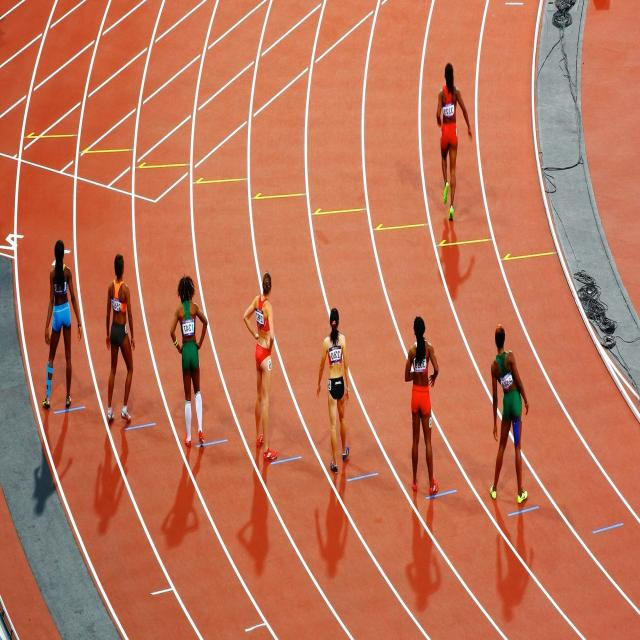adult: (488, 323, 529, 504), (41, 241, 82, 407), (404, 314, 440, 494), (170, 276, 208, 444), (436, 61, 474, 225), (243, 272, 274, 461), (316, 306, 350, 474), (106, 252, 136, 422)
